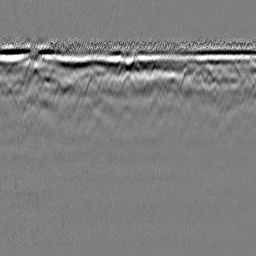cavity: (119, 71, 137, 95)
